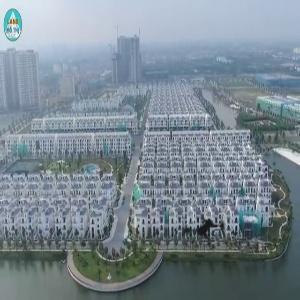drone: (163, 190, 248, 275)
